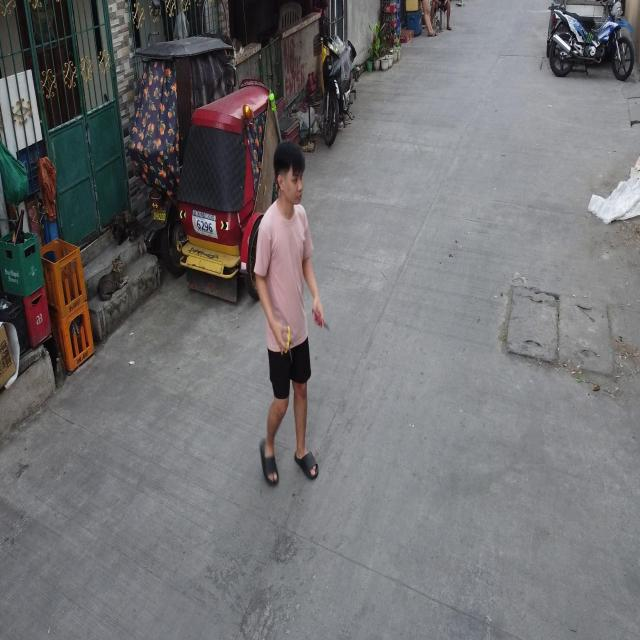scissor: (284, 325, 295, 363)
